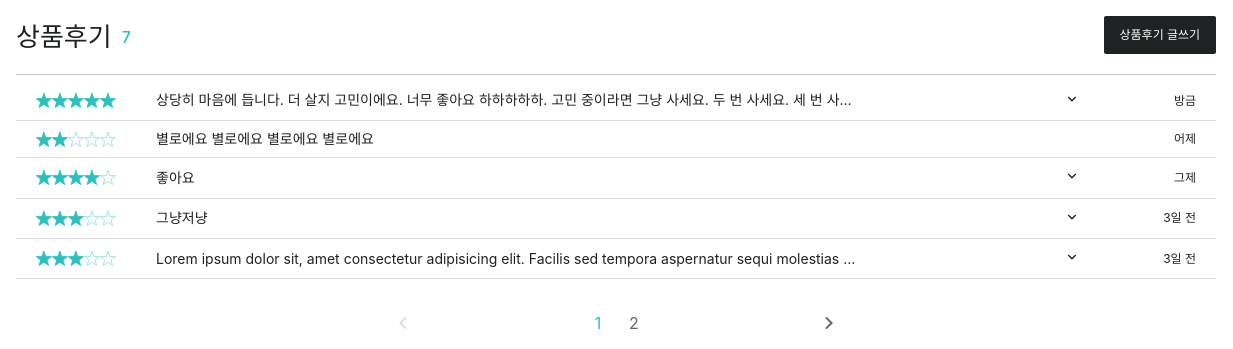
Test: Review 컴포넌트 테스트 › Pagination 숫자 버튼 기능: Page 2 클릭 -> 상품후기 개수 2개
The image size is (1233, 349).
Click the button with test id "number-button-2" at (634, 324), box top-left (629, 314), bottom-right (639, 333)
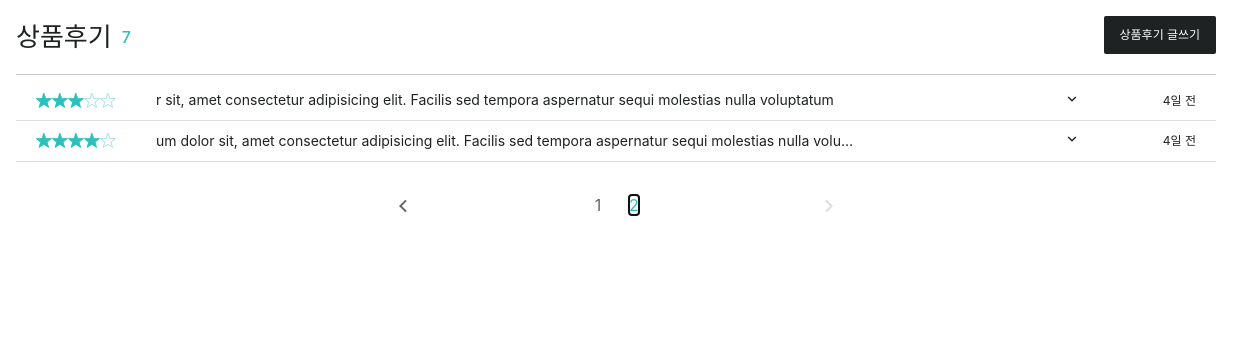
Expected: the number of list items with test id "review-list-item" is 2, top-left (16, 91), bottom-right (1216, 121); top-left (16, 121), bottom-right (1216, 162)
